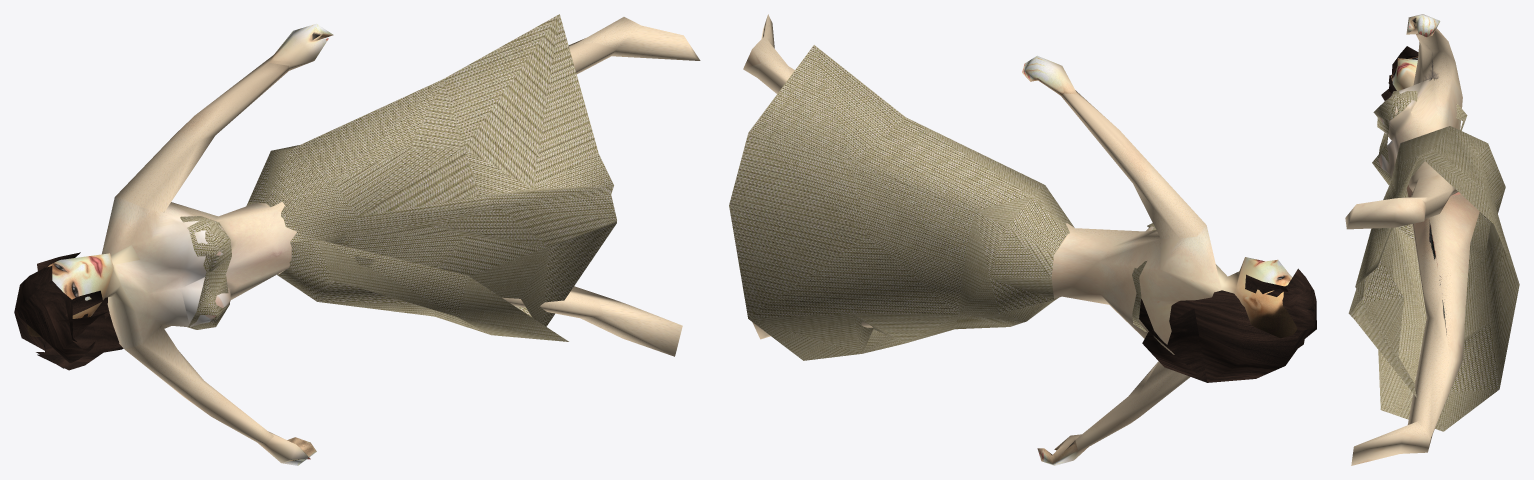
Rendered from worker_000157.obj.
3 views of the same model, side by side, from view 1: azimuth 30°, elevation 25°; view 2: azimuth 150°, elevation 25°; view 3: azimuth 270°, elevation 25° (orthographic). The views are drawn at different scales.
Visible parts, largest first — view 1: saree_Cylinder, body.001_omino.012, hair.003_omino.013; view 2: saree_Cylinder, body.001_omino.012, hair.003_omino.013; view 3: saree_Cylinder, body.001_omino.012, hair.003_omino.013.
Part boxes in pixels (x1,y1,x2,y2): saree_Cylinder: [180, 14, 616, 341]; body.001_omino.012: [27, 17, 700, 465]; hair.003_omino.013: [14, 252, 123, 370]; saree_Cylinder: [729, 45, 1156, 360]; body.001_omino.012: [743, 14, 1304, 465]; hair.003_omino.013: [1139, 268, 1316, 382]; saree_Cylinder: [1348, 91, 1519, 431]; body.001_omino.012: [1345, 14, 1479, 465]; hair.003_omino.013: [1381, 46, 1418, 100].
Bounding box in the file's own units: 2.78 × 1.82 × 0.7792.
